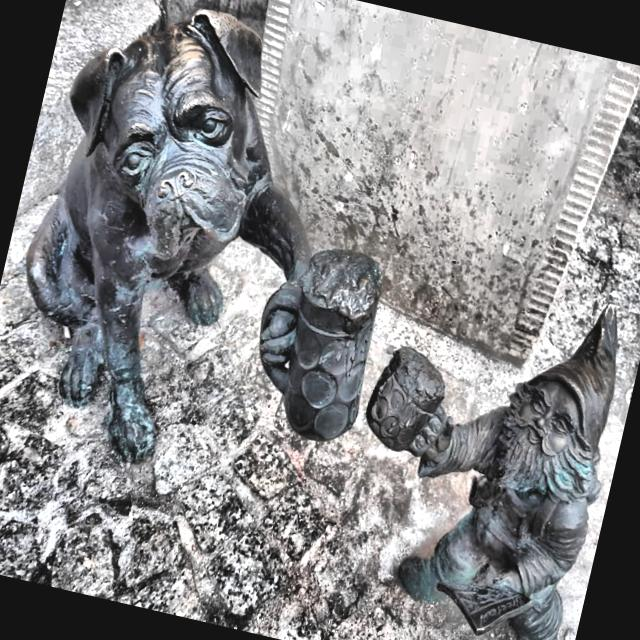Piwozlopek_ i_Piesel_Piwosz: (26, 9, 380, 460), (366, 306, 616, 640)
